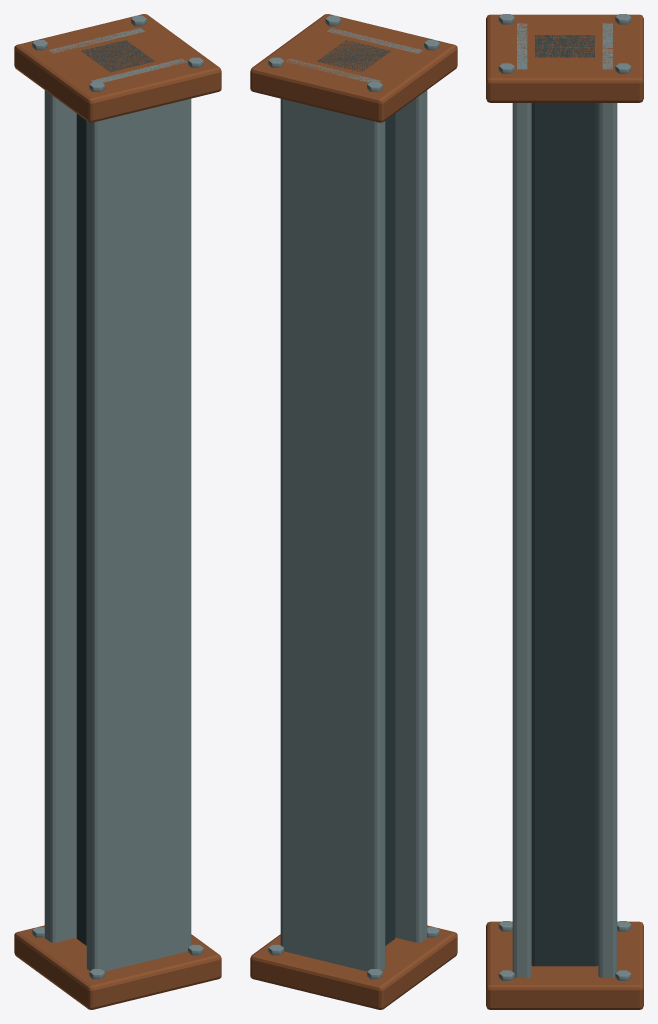
The model's file is SM_MetalColumn_300.fbx.
The picture shows the model from 3 angles, left to right: view 1: azimuth 30°, elevation 25°; view 2: azimuth 150°, elevation 25°; view 3: azimuth 270°, elevation 25°; orthographic projection. The views are drawn at different scales.
Visible parts, largest first — view 1: SM_MetalColumn_300; view 2: SM_MetalColumn_300; view 3: SM_MetalColumn_300.
Part boxes in pixels (x1,y1,x2,y2): SM_MetalColumn_300: (14,14,221,1009); SM_MetalColumn_300: (250,14,457,1009); SM_MetalColumn_300: (486,14,643,1009).
Size of what is drawn, in the model's own units: 0.46 by 0.46 by 3.02.
